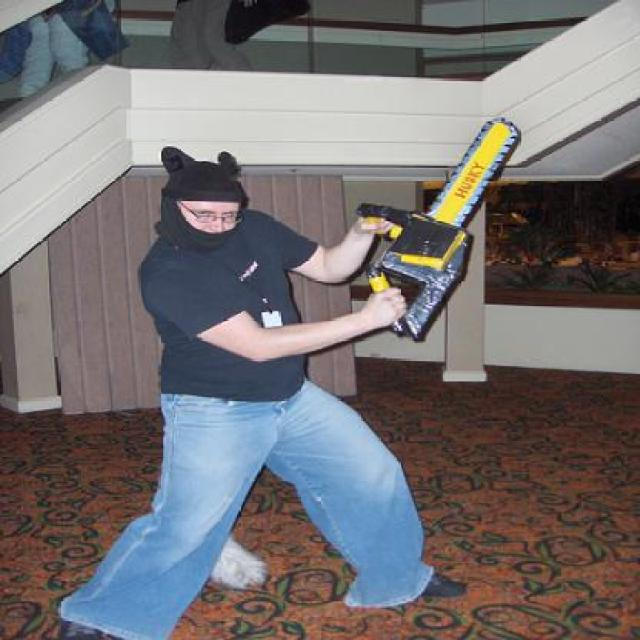Chainsaw: (355, 108, 523, 343)
